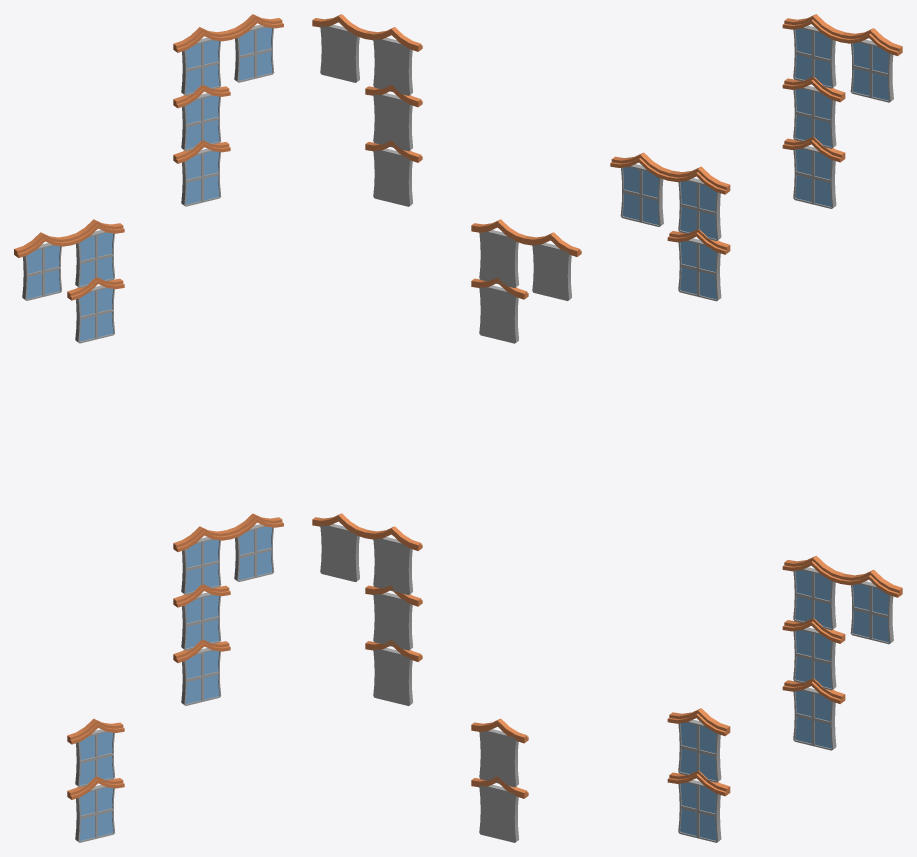
File: Test_tourtour2.glb
3 renders of one model, left to right at view 1: azimuth 30°, elevation 25°; view 2: azimuth 150°, elevation 25°; view 3: azimuth 330°, elevation 25°, orthographic. The views are drawn at different scales.
Parts seen in each view (by area): view 1: Window (×13); view 2: Window (×13); view 3: Window (×13).
Part boxes in pixels (x1,y1,x2,y2): Window (×13): [14, 14, 283, 842]; Window (×13): [312, 14, 581, 842]; Window (×13): [610, 14, 902, 842].
Bounding box in the file's own units: 10 × 28.25 × 0.3.
